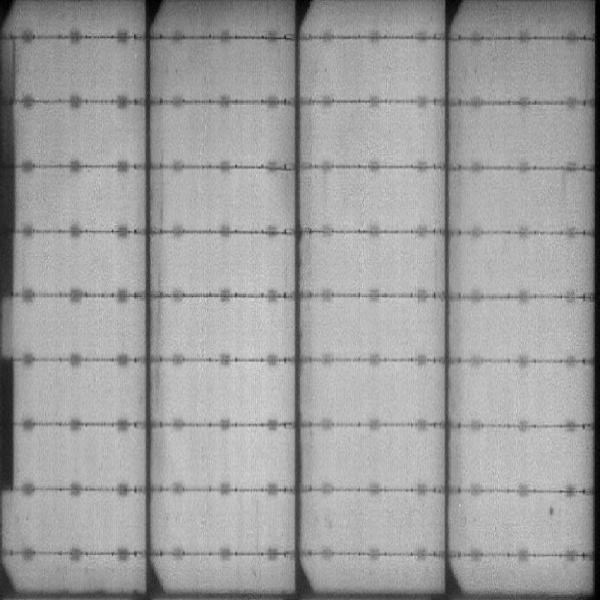black_border: (2, 34, 19, 302), (1, 353, 17, 498)
